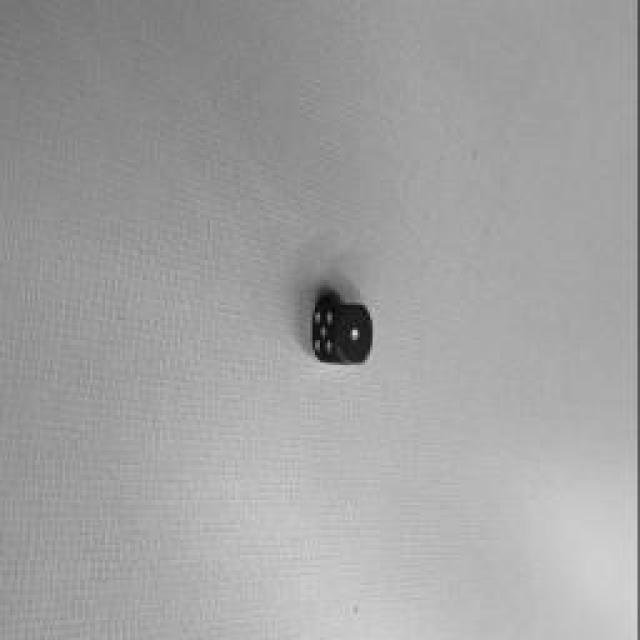dice_1: (338, 304, 372, 364)
